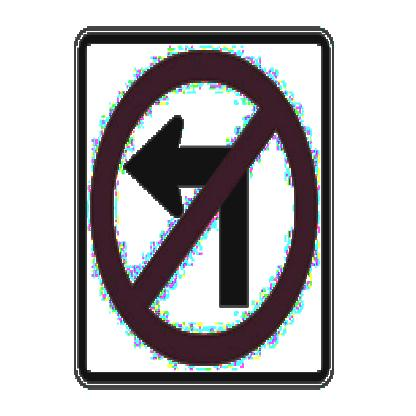No left turn: (78, 33, 314, 375)
